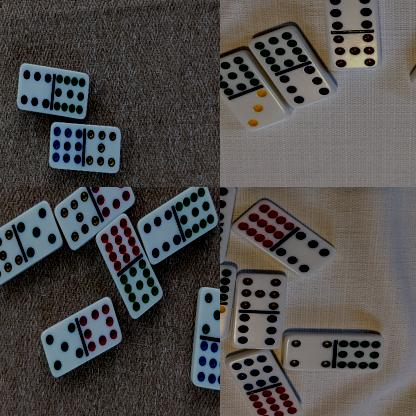pip-11: (248, 28, 308, 72), (121, 260, 164, 320), (176, 187, 218, 240), (336, 336, 386, 374), (220, 52, 260, 97), (52, 74, 90, 121), (220, 263, 236, 303)
pip-12: (231, 199, 295, 249), (96, 214, 140, 272), (249, 387, 303, 416)
pip-3: (231, 90, 285, 132)
pip-4: (286, 335, 333, 373)
pip-5: (18, 202, 64, 260), (42, 320, 84, 378), (196, 287, 220, 338)
pip-6: (277, 233, 337, 280), (139, 208, 182, 267), (280, 66, 336, 110), (234, 312, 283, 350), (325, 0, 377, 32), (16, 64, 52, 110), (220, 187, 234, 224)
pip-7: (54, 192, 99, 252), (84, 125, 122, 175), (330, 32, 380, 69), (237, 275, 288, 311), (0, 228, 24, 285)
pip-8: (81, 297, 123, 354), (91, 187, 135, 218)
pip-9: (228, 352, 281, 392), (50, 121, 84, 170), (193, 339, 220, 391)
